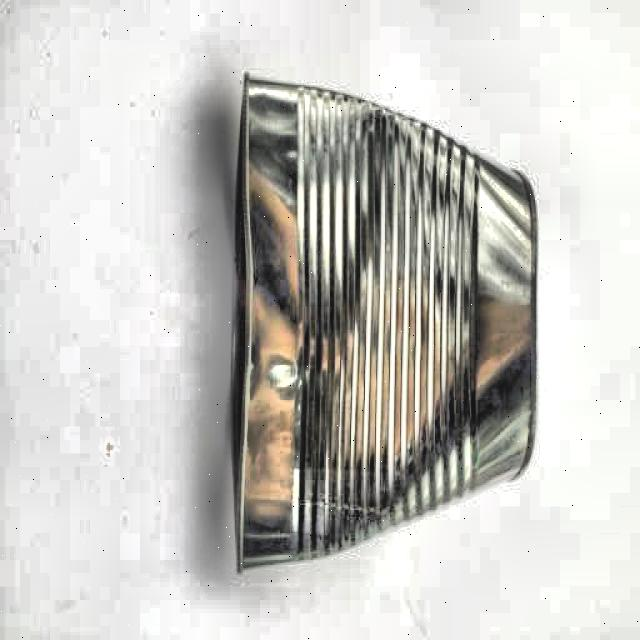metal: (220, 78, 548, 584)
